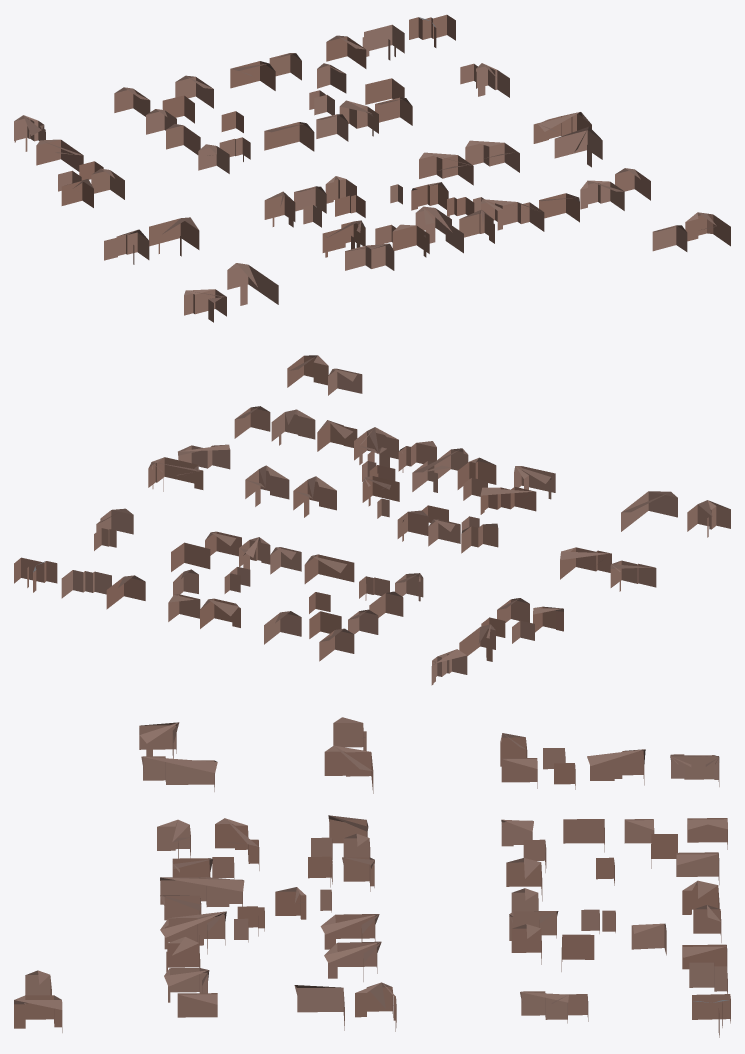
Rendered from c_1647_17828_buildings_residential.glb.
3 views of the same model, one above another, from view 1: azimuth 30°, elevation 25°; view 2: azimuth 150°, elevation 25°; view 3: azimuth 270°, elevation 25° (orthographic). The views are drawn at different scales.
Visible parts, largest first — view 1: geometry_0; view 2: geometry_0; view 3: geometry_0.
Part boxes in pixels (x1,y1,x2,y2): geometry_0: (14, 14, 730, 322); geometry_0: (14, 355, 730, 685); geometry_0: (14, 717, 730, 1037).
Size of the model in its own units: 239 by 10.94 by 247.
